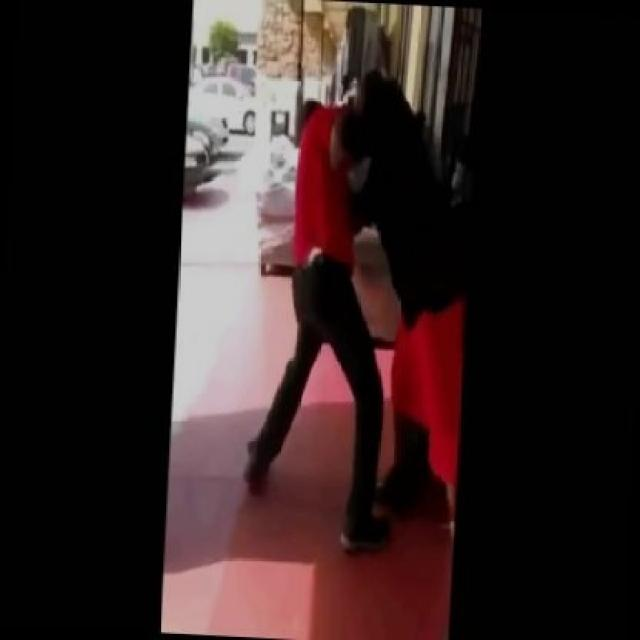fight: (219, 51, 481, 562)
